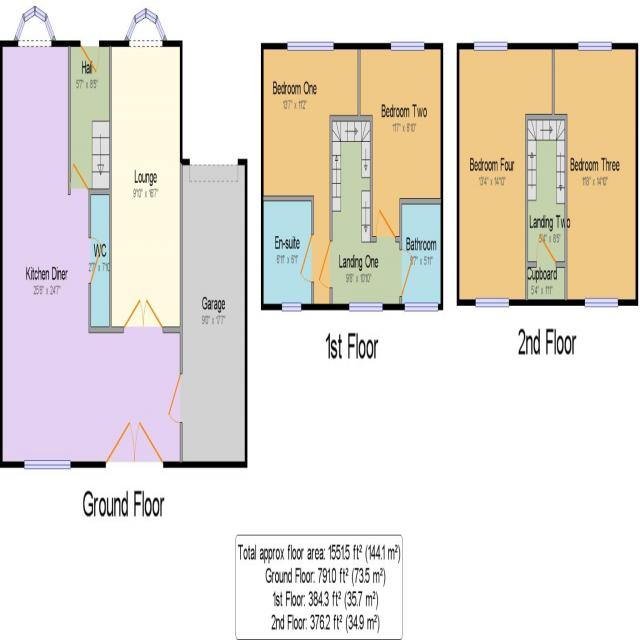DOOR: (535, 229, 559, 272), (398, 245, 416, 301), (316, 236, 334, 291), (298, 230, 315, 286), (167, 371, 184, 426), (79, 39, 101, 77), (88, 235, 103, 288)
DOUBLE DOOR: (103, 413, 165, 471), (122, 293, 164, 334)
ROOM: (0, 2, 184, 473), (260, 41, 362, 311), (456, 42, 555, 306), (108, 4, 183, 335), (551, 42, 639, 307), (357, 42, 444, 242)
WINDOW: (286, 38, 335, 54), (473, 38, 509, 55), (24, 458, 71, 471), (583, 294, 620, 310), (390, 39, 426, 54), (348, 300, 384, 315), (577, 39, 613, 54), (474, 295, 510, 310), (403, 301, 440, 314), (14, 11, 26, 44), (44, 13, 56, 43), (155, 13, 166, 45), (126, 14, 137, 43), (145, 6, 158, 27), (281, 301, 302, 314), (22, 3, 35, 23), (35, 3, 47, 24), (134, 8, 146, 26)
